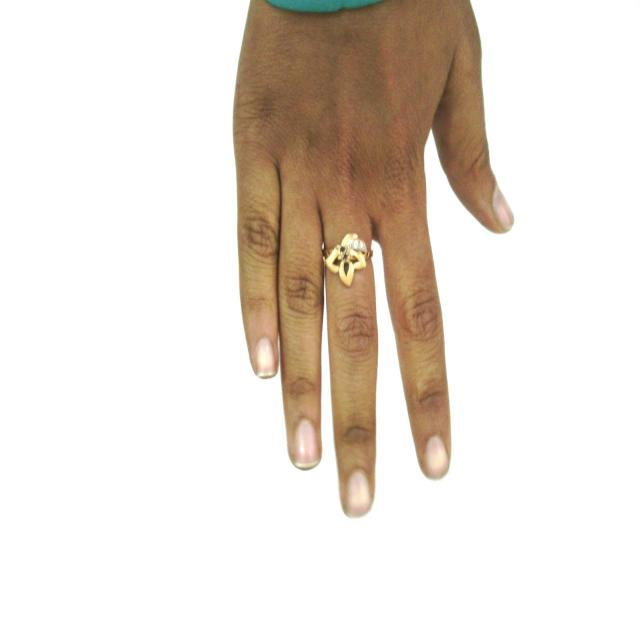Fingernail: (293, 419, 319, 468), (346, 470, 370, 517), (424, 436, 448, 479), (494, 188, 514, 229), (256, 339, 276, 377)
